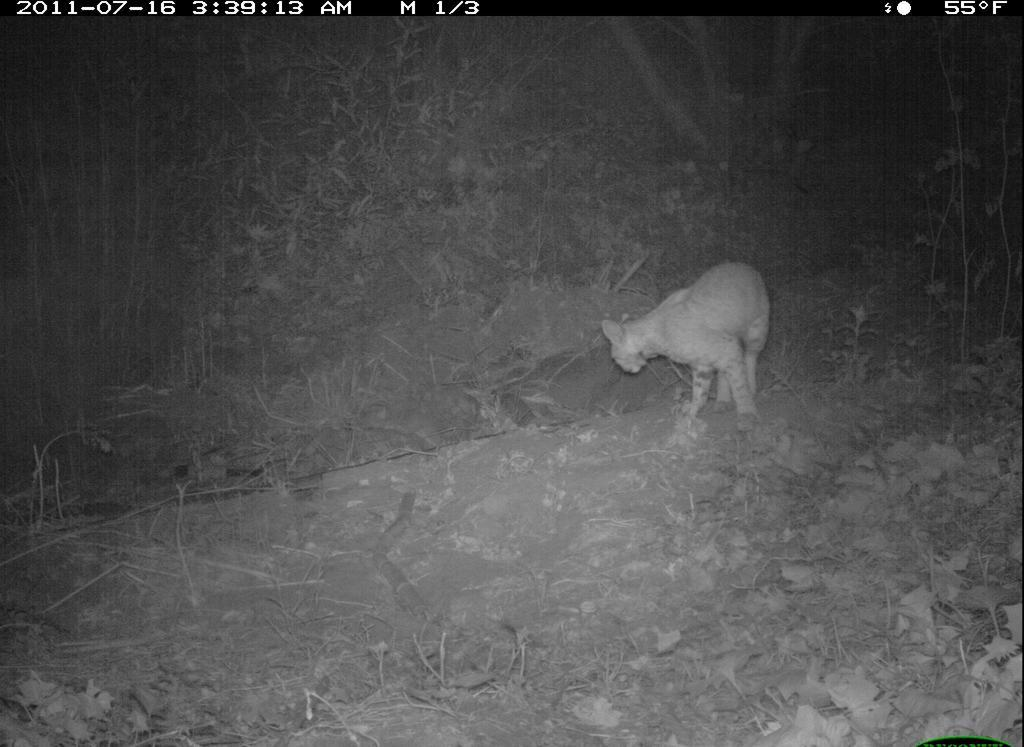bobcat: (585, 253, 786, 438)
